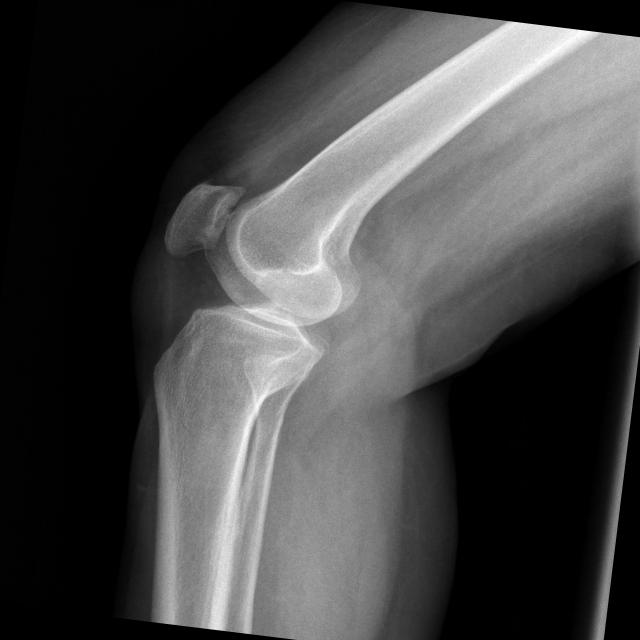Knee: (143, 172, 393, 426)
